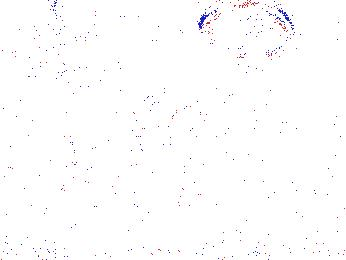moon jellyfish: (116, 82, 213, 184), (200, 1, 294, 59), (23, 54, 93, 99), (1, 1, 56, 58), (211, 89, 257, 150)
